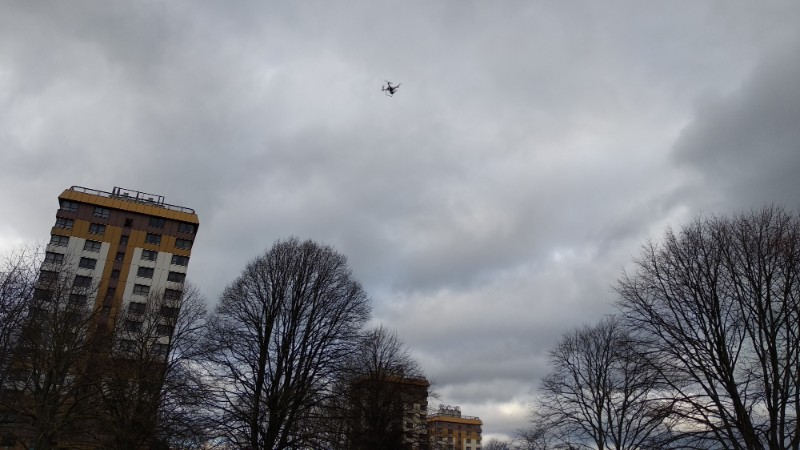drone: (382, 79, 400, 95)
